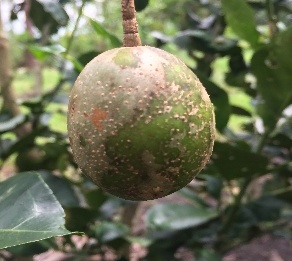Coc: (69, 36, 217, 207)
